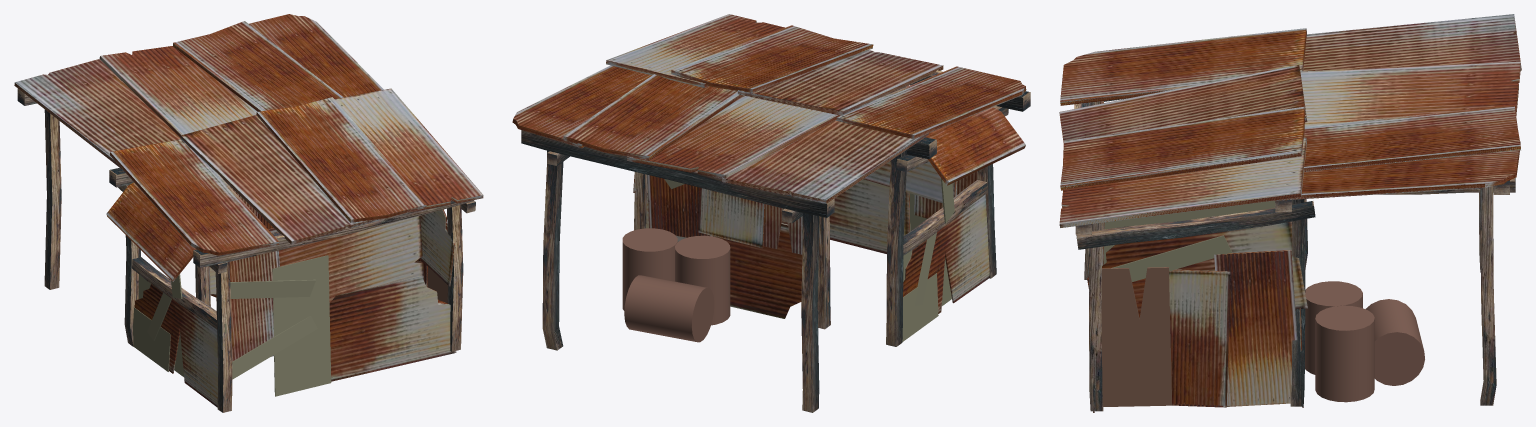
File: river-shack.lod0.glb
The picture shows the model from 3 angles, left to right: view 1: azimuth 30°, elevation 25°; view 2: azimuth 150°, elevation 25°; view 3: azimuth 270°, elevation 25°; orthographic projection. The views are drawn at different scales.
Parts seen in each view (by area): view 1: pCube1_lambert2_0, pCube4_lambert4_0, pasted__pCube3_pasted__lambert3_0; view 2: pCube1_lambert2_0, pCube4_lambert4_0, pasted__pCube3_pasted__lambert3_0; view 3: pCube1_lambert2_0, pasted__pCube3_pasted__lambert3_0, pCube4_lambert4_0.
Boxes of the visible parts, x1,y1,x2,y2 form: pCube1_lambert2_0: (14, 14, 483, 407); pCube4_lambert4_0: (17, 88, 475, 412); pasted__pCube3_pasted__lambert3_0: (133, 223, 447, 396); pCube1_lambert2_0: (512, 14, 1026, 318); pCube4_lambert4_0: (521, 17, 1030, 412); pasted__pCube3_pasted__lambert3_0: (622, 178, 954, 342); pCube1_lambert2_0: (1059, 14, 1521, 412); pasted__pCube3_pasted__lambert3_0: (1101, 201, 1424, 406); pCube4_lambert4_0: (1074, 98, 1515, 411).
Bounding box in the file's own units: 4.47 × 2.96 × 5.
Materials: 3 (2 with a texture image).
